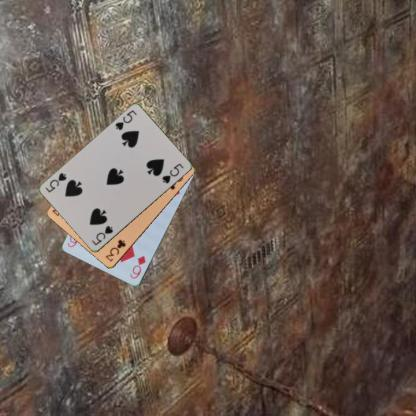3c: (103, 237, 127, 263)
5s: (113, 107, 138, 132), (89, 223, 114, 247)
6d: (128, 253, 146, 280)
